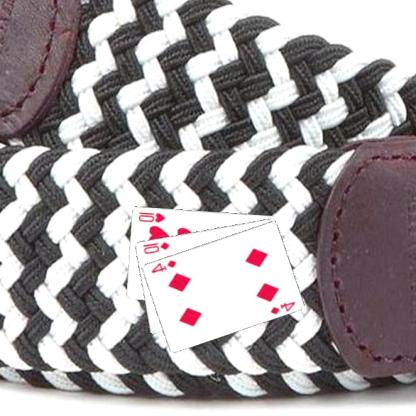10D: (142, 239, 172, 255)
10H: (138, 209, 167, 224)
4D: (150, 257, 179, 275), (269, 299, 298, 316)
